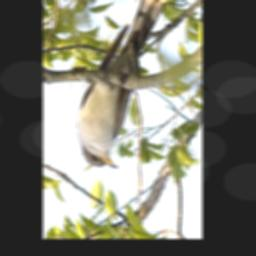Cuckoo: (77, 0, 171, 169)
